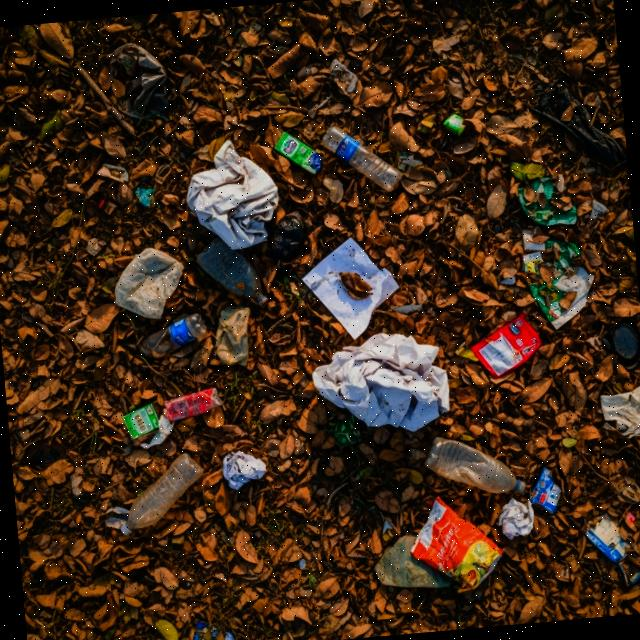paper: (307, 324, 453, 442), (180, 133, 286, 253)
plastic: (408, 490, 508, 600), (114, 446, 208, 541), (424, 430, 530, 504)
